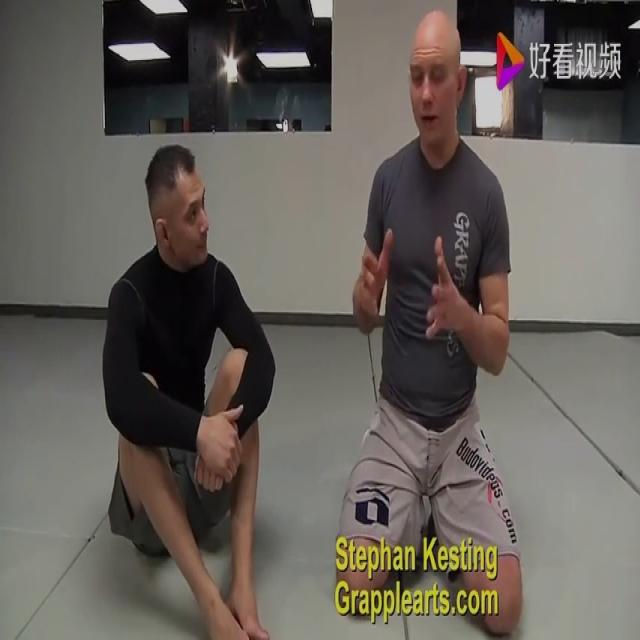non-fight: (351, 0, 512, 639), (100, 137, 276, 639)
